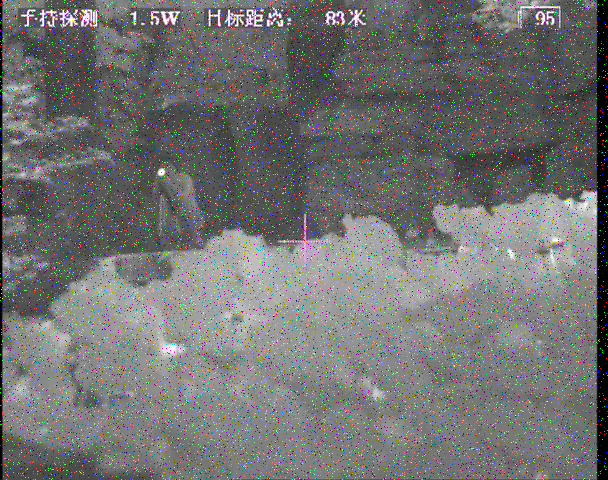my: (156, 167, 167, 177)
